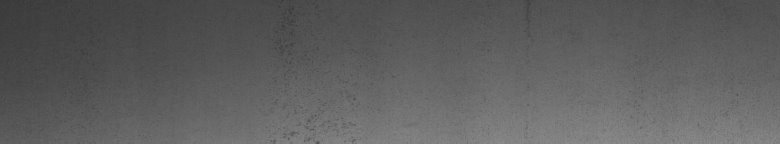ib: (280, 20, 356, 136)
